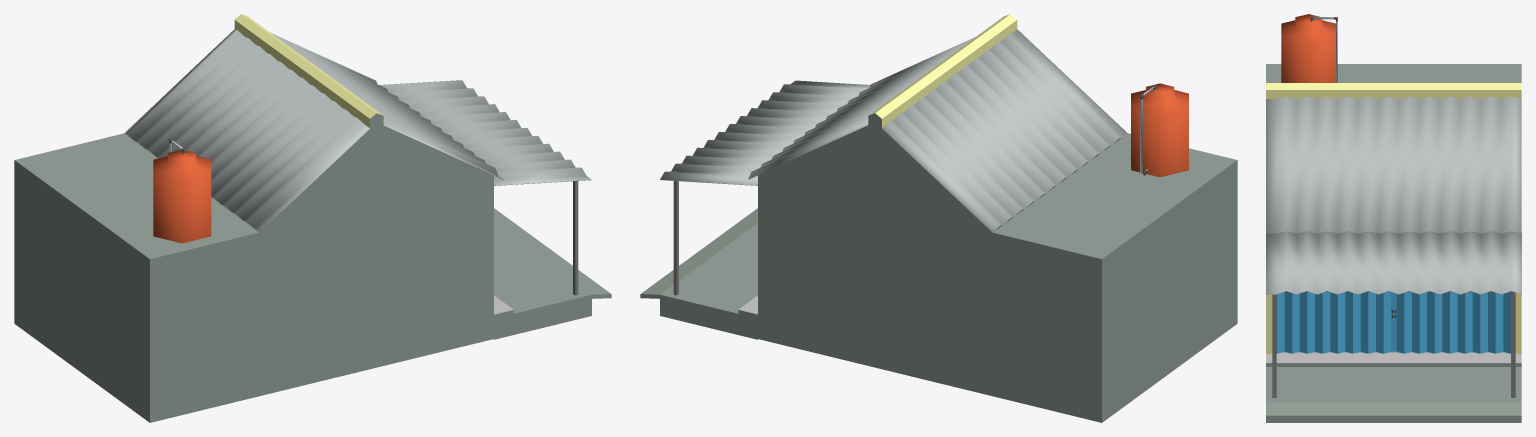
File: Closed_STore_Type_1_1.fbx
The picture shows the model from 3 angles, left to right: view 1: azimuth 30°, elevation 25°; view 2: azimuth 150°, elevation 25°; view 3: azimuth 270°, elevation 25°; orthographic projection. The views are drawn at different scales.
Parts seen in each view (by area): view 1: Closed_STore_Type_1_1_LOD0; view 2: Closed_STore_Type_1_1_LOD0; view 3: Closed_STore_Type_1_1_LOD0.
Part boxes in pixels (left/top/right/bottom): Closed_STore_Type_1_1_LOD0: left=14, top=14, right=611, bottom=422; Closed_STore_Type_1_1_LOD0: left=640, top=14, right=1237, bottom=422; Closed_STore_Type_1_1_LOD0: left=1266, top=14, right=1521, bottom=422.
Size of what is drawn, in the model's own units: 1180 by 624 by 600.
